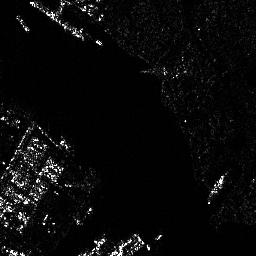ship: (14, 12, 30, 32)
